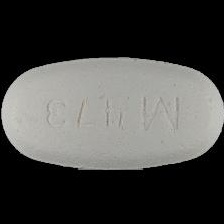67046-122: (0, 0, 224, 224)
